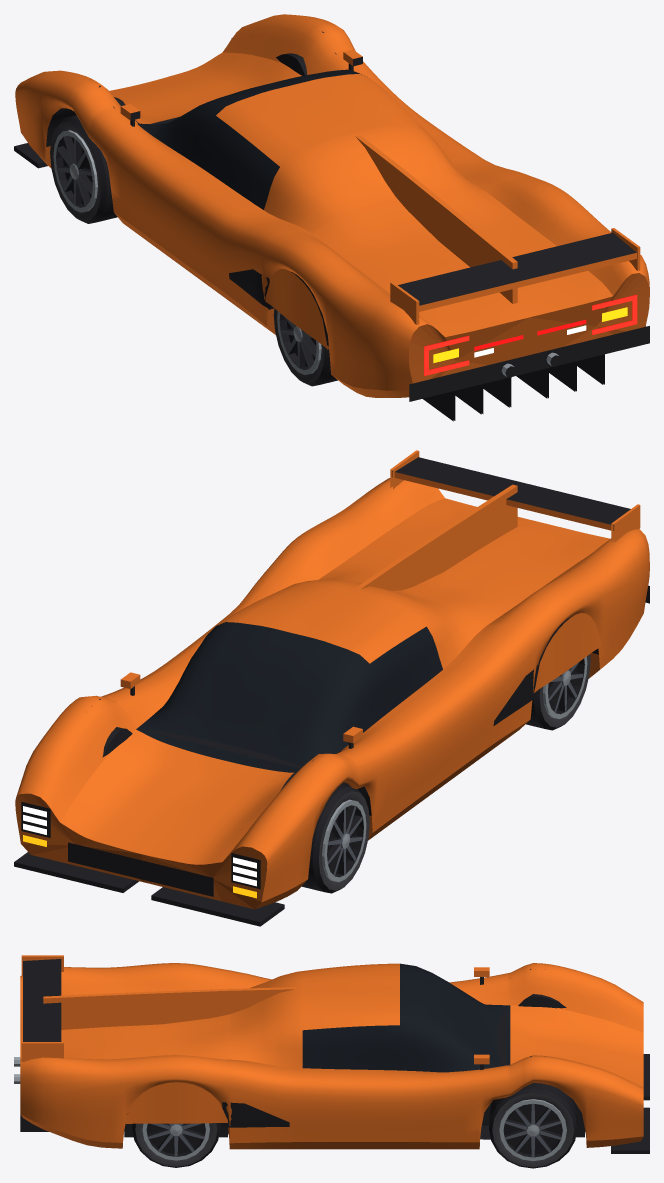
The model's file is afterglow.glb.
3 views of the same model, one above another, from view 1: azimuth 30°, elevation 25°; view 2: azimuth 150°, elevation 25°; view 3: azimuth 270°, elevation 25° (orthographic). The views are drawn at different scales.
Parts seen in each view (by area): view 1: Body, Rim_FL, Tire_FL, Rim_RL, Tire_RL, brake_R, brake_L; view 2: Body, Rim_FL, Tire_FL, Rim_RL, Tire_RL, Cabin; view 3: Body, Rim_FR, Tire_FR, Rim_RR, Tire_RR, Cabin.
Part boxes in pixels (x1,y1,x2,y2): Body: (14, 14, 649, 421); Rim_FL: (53, 130, 97, 212); Tire_FL: (50, 115, 117, 223); Rim_RL: (277, 311, 321, 374); Tire_RL: (273, 308, 337, 386); brake_R: (592, 295, 637, 334); brake_L: (424, 336, 469, 375); Body: (14, 450, 649, 926); Rim_FL: (322, 799, 366, 882); Tire_FL: (301, 784, 369, 893); Rim_RL: (543, 656, 587, 718); Tire_RL: (526, 654, 590, 730); Cabin: (146, 730, 344, 837); Body: (14, 955, 649, 1153); Rim_FR: (499, 1099, 566, 1161); Tire_FR: (489, 1083, 577, 1168); Rim_RR: (142, 1123, 209, 1160); Tire_RR: (132, 1123, 220, 1167); Cabin: (480, 1010, 506, 1139).
Bounding box in the file's own units: 1.98 × 1.12 × 4.9.
